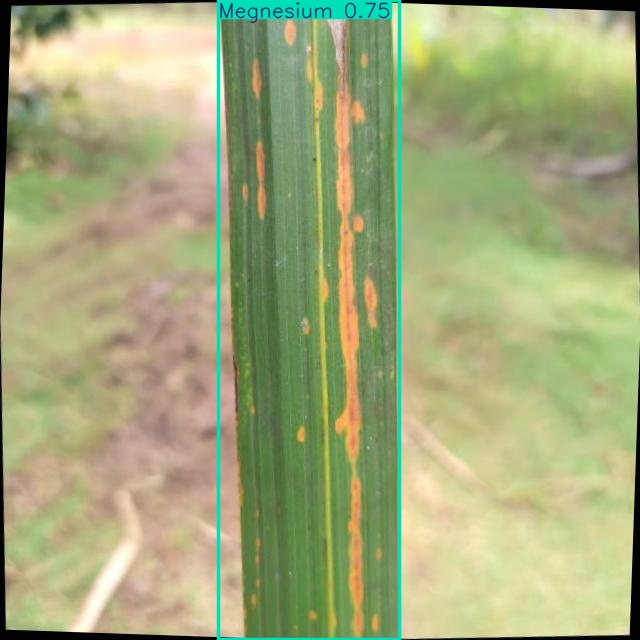Megnesium: (218, 0, 400, 640)
